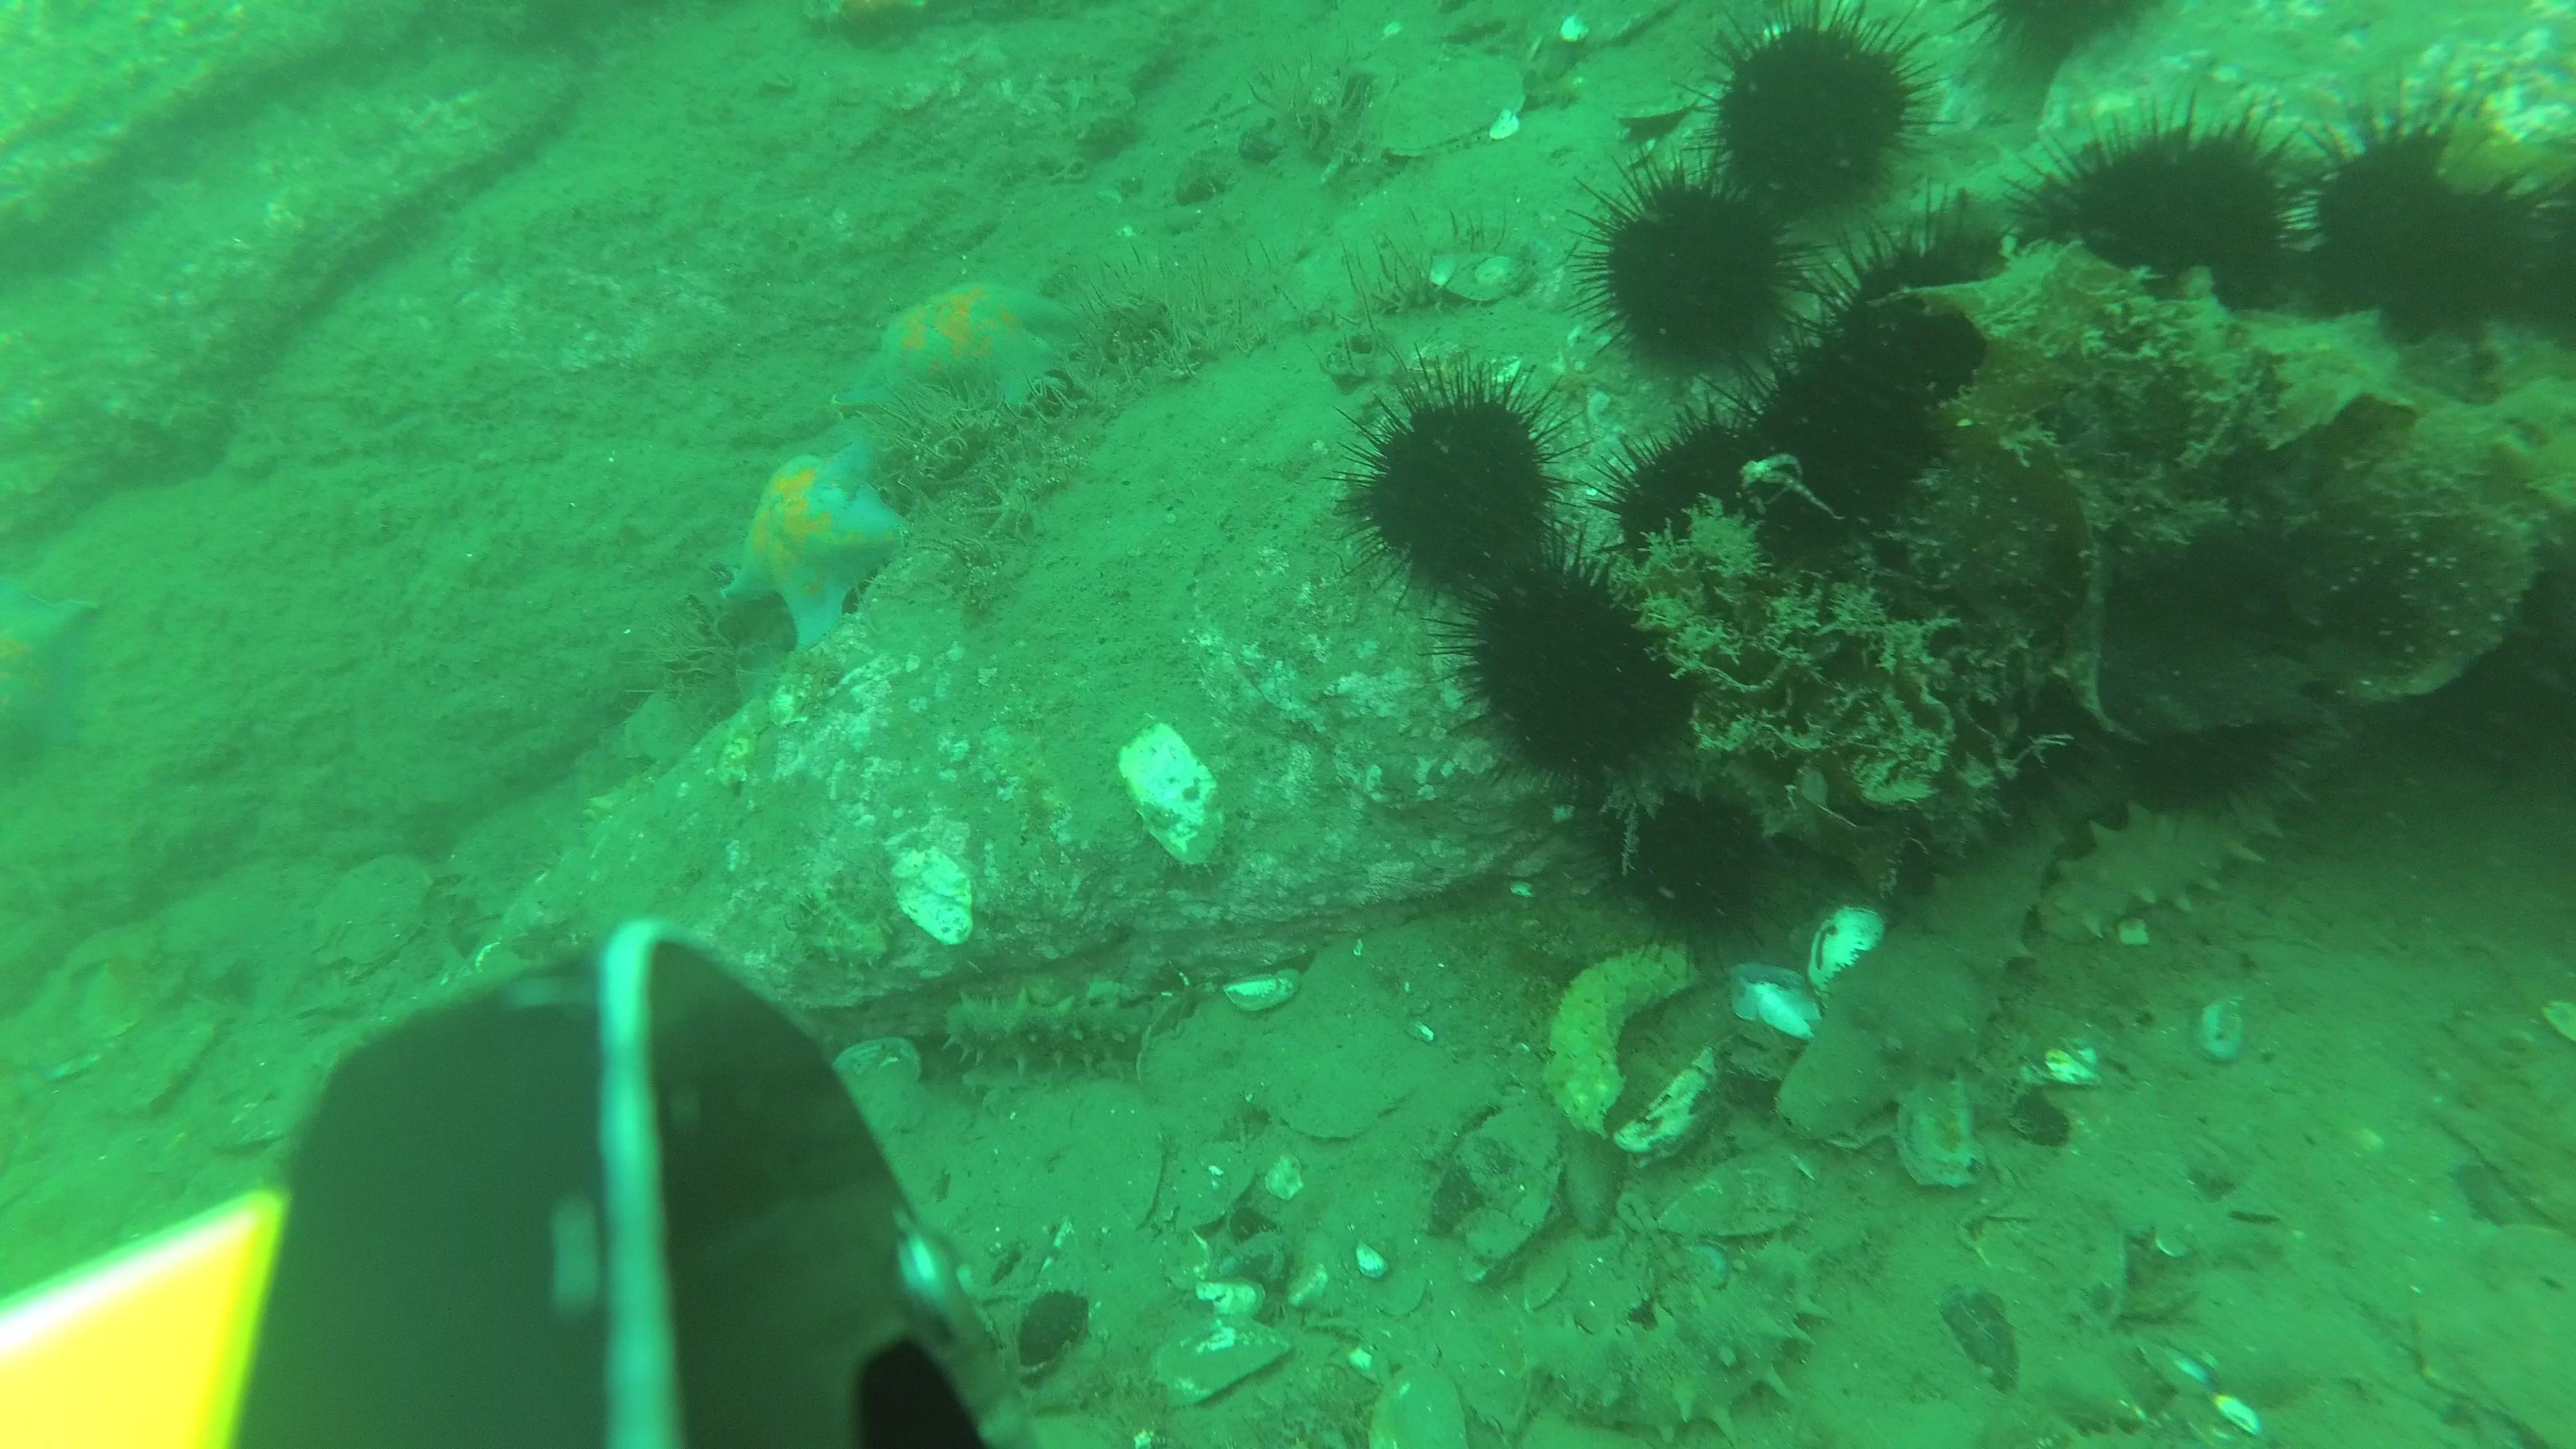echinus: (2017, 101, 2323, 341), (2293, 96, 2565, 352), (1341, 347, 1596, 600), (1575, 145, 1821, 402), (1686, 0, 1948, 241), (1454, 552, 1695, 794), (1725, 329, 1957, 568), (1822, 200, 2038, 428), (1909, 640, 2111, 840), (1592, 759, 1785, 959), (1608, 403, 1787, 603), (2123, 630, 2309, 819), (2420, 598, 2576, 798), (1962, 0, 2173, 67), (2523, 143, 2576, 354)
holothurian: (1776, 757, 2100, 1148), (1527, 1228, 1833, 1449), (2035, 722, 2330, 945), (1907, 113, 2351, 234), (943, 991, 1191, 1081)
scallop: (2424, 1219, 2576, 1449), (1389, 53, 1527, 163), (299, 858, 435, 966), (819, 1035, 934, 1138)
starfish: (722, 441, 911, 655), (860, 280, 1079, 418), (0, 589, 106, 789)
